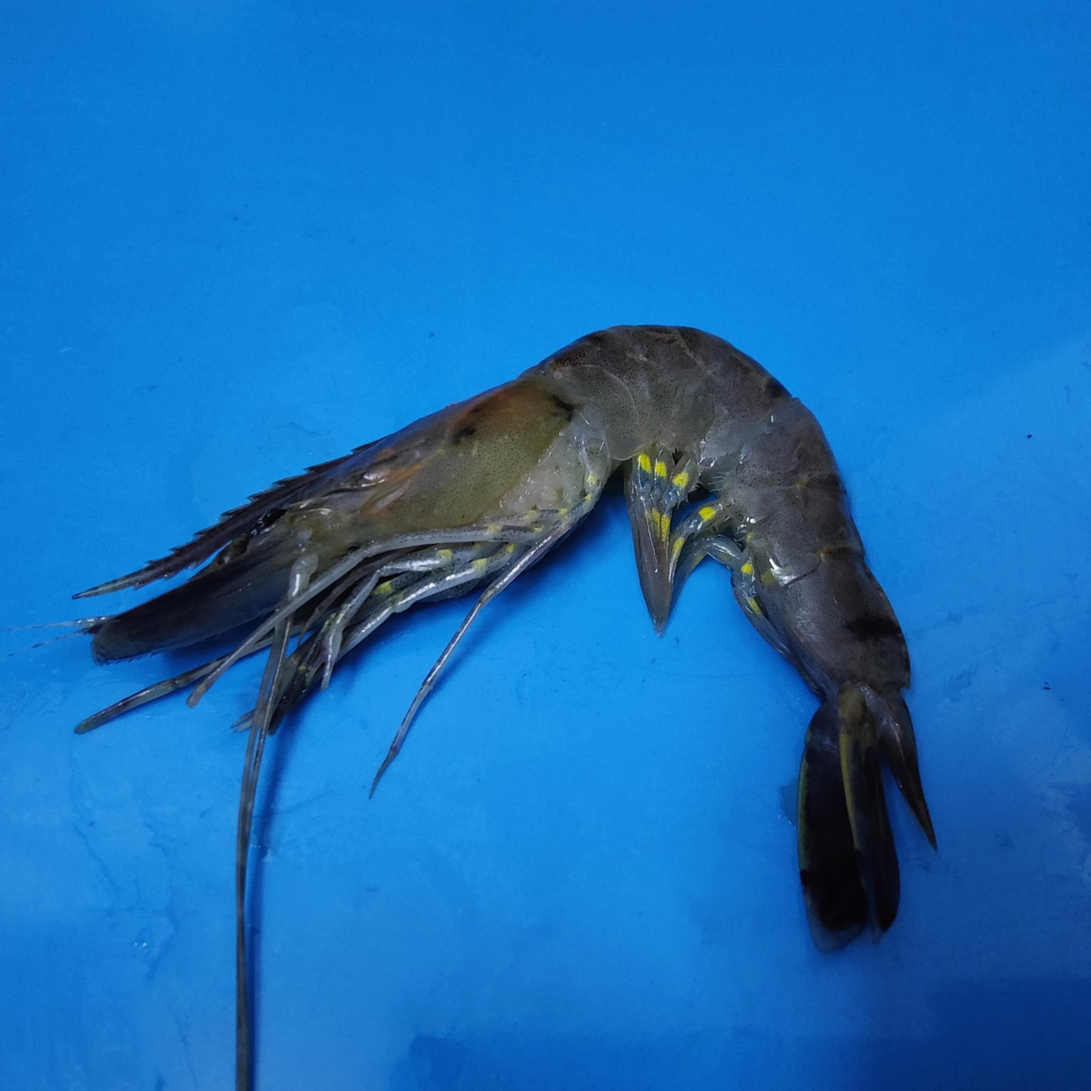whitespot: (369, 392, 560, 532)
